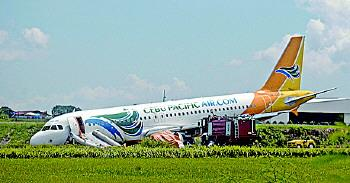airplane: (29, 33, 339, 146)
